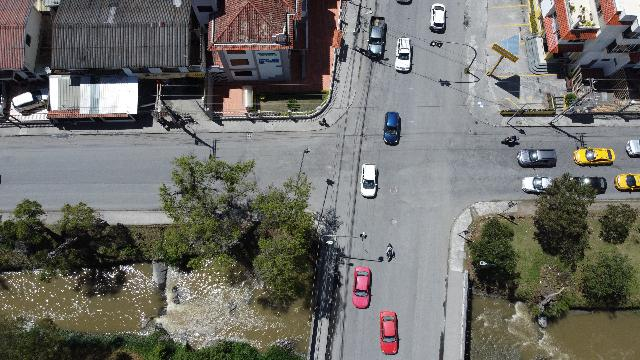Vehiculo: (12, 88, 48, 115), (380, 311, 400, 355), (352, 267, 372, 309), (518, 148, 556, 168), (574, 148, 614, 166), (568, 176, 606, 194), (394, 36, 412, 72), (360, 164, 378, 198), (522, 175, 554, 194), (383, 112, 401, 144), (366, 26, 384, 58), (614, 173, 640, 191), (430, 3, 446, 31), (626, 139, 640, 157)
